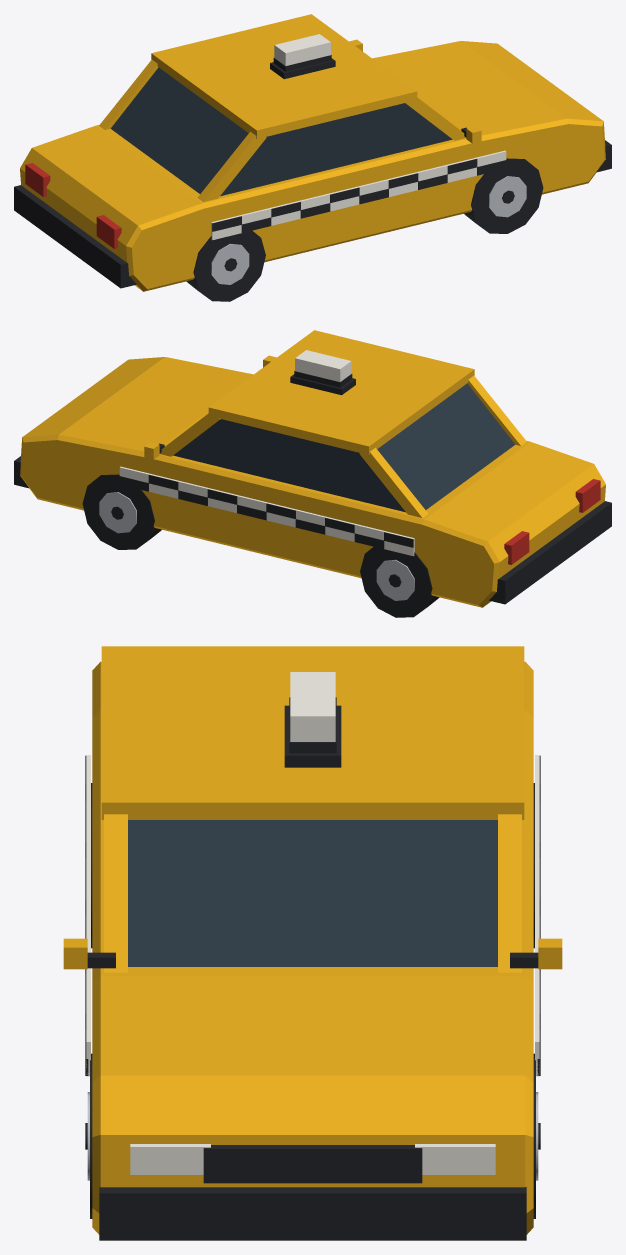
The model's file is taxixpress.glb.
The picture shows the model from 3 angles, top to bottom: view 1: azimuth 30°, elevation 25°; view 2: azimuth 150°, elevation 25°; view 3: azimuth 270°, elevation 25°; orthographic projection. The views are drawn at different scales.
Parts seen in each view (by area): view 1: body_shell, greenhouse_glass, roof_panel, bumper_rear, checker_band, tire_front_left, tire_rear_left, pillar_c (×2), sign_box, taillight (×2), hubcap_rear_left, hubcap_front_left (+2 smaller); view 2: body_shell, greenhouse_glass, roof_panel, bumper_rear, checker_band, tire_front_right, tire_rear_right, pillar_c (×2), sign_box, taillight (×2), hubcap_rear_right, hubcap_front_right (+2 smaller); view 3: body_shell, roof_panel, greenhouse_glass, bumper_front, grille, pillar_a (×2), headlight (×2), sign_box, checker_band (×2), mirror (×2), sign_base.
Boxes of the visible parts, x1,y1,x2,y2 form: body_shell: (20,41,605,291); greenhouse_glass: (110,67,452,196); roof_panel: (151,14,417,138); bumper_rear: (14,185,136,288); checker_band: (211,150,506,240); tire_front_left: (464,158,543,233); tire_rear_left: (186,230,265,301); pillar_c (×2): (99,59,266,201); sign_box: (274,34,330,65); taillight (×2): (25,163,121,248); hubcap_rear_left: (211,243,249,284); hubcap_front_left: (489,176,526,217); body_shell: (20,357,605,607); greenhouse_glass: (173,383,515,512); roof_panel: (208,330,474,454); bumper_rear: (489,501,611,604); checker_band: (119,466,414,556); tire_front_right: (82,474,161,549); tire_rear_right: (360,546,439,617); pillar_c (×2): (359,375,526,517); sign_box: (295,350,351,381); taillight (×2): (504,479,600,564); hubcap_rear_right: (376,559,414,600); hubcap_front_right: (99,492,136,533); body_shell: (92,661,533,1234); roof_panel: (101,646,524,819); greenhouse_glass: (128,820,497,966); bumper_front: (99,1187,526,1240); grille: (203,1145,422,1183); pillar_a (×2): (104,814,521,972); headlight (×2): (130,1144,495,1174); sign_box: (290,672,335,741); checker_band (×2): (86,755,539,1076); mirror (×2): (63,938,562,969); sign_base: (284,705,341,767).
Bounding box in the file's own units: 4.78 × 1.73 × 2.1.
